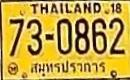0: (56, 18, 71, 54)
2: (108, 17, 124, 54)
3: (26, 18, 41, 54)
6: (91, 17, 106, 53)
7: (9, 18, 23, 56)
8: (74, 17, 89, 54)
SPK: (27, 59, 108, 77)
